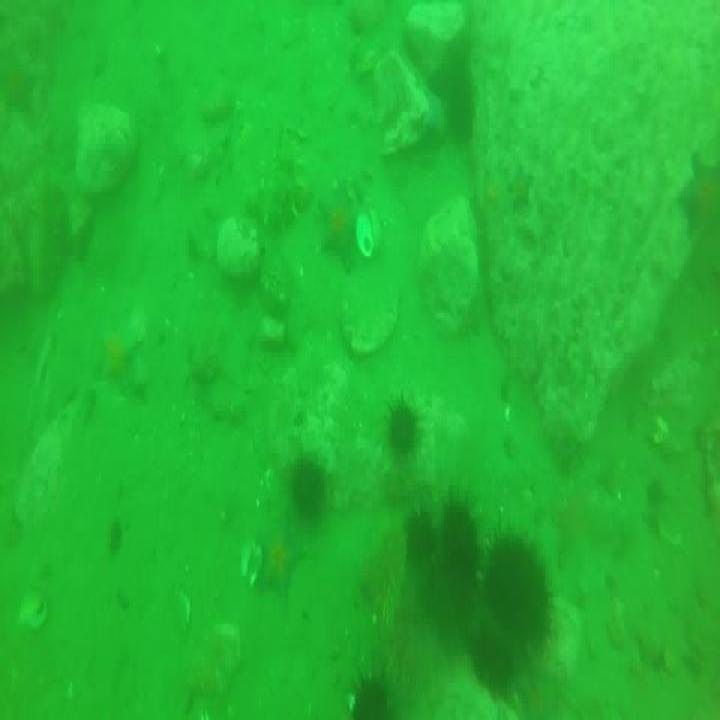echinus: (481, 524, 557, 650), (442, 487, 482, 574), (386, 395, 422, 458), (293, 457, 324, 526), (406, 498, 433, 572), (352, 675, 389, 720)
holothurian: (263, 122, 304, 241)
scallop: (13, 588, 50, 630), (358, 204, 384, 260), (241, 540, 265, 586)
starfish: (323, 178, 363, 266), (261, 528, 306, 606)
